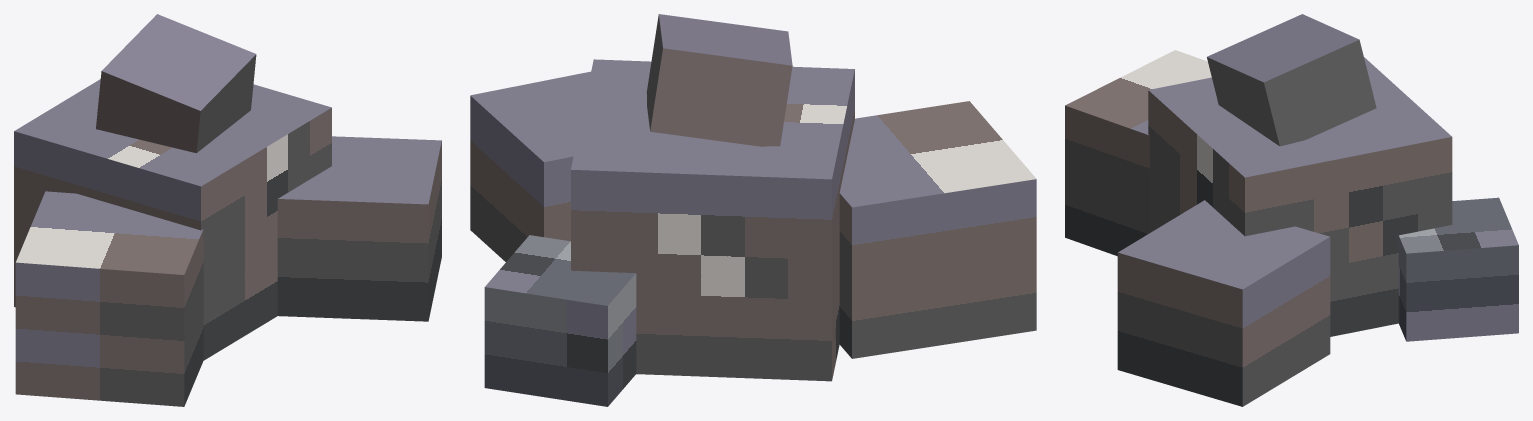
Rendered from iron_ore.glb.
3 renders of one model, left to right at view 1: azimuth 30°, elevation 25°; view 2: azimuth 150°, elevation 25°; view 3: azimuth 270°, elevation 25°, orthographic. The views are drawn at different scales.
Parts seen in each view (by area): view 1: chunk_1, chunk_3, chunk_2, chunk_top; view 2: chunk_1, chunk_3, chunk_4, chunk_2, chunk_top; view 3: chunk_1, chunk_2, chunk_3, chunk_top, chunk_4.
Boxes of the visible parts, bbox=[...] form: chunk_1: bbox=[14, 79, 331, 360]; chunk_3: bbox=[15, 191, 203, 406]; chunk_2: bbox=[277, 136, 441, 321]; chunk_top: bbox=[96, 14, 256, 153]; chunk_1: bbox=[571, 59, 854, 381]; chunk_3: bbox=[839, 101, 1036, 358]; chunk_4: bbox=[484, 235, 636, 406]; chunk_2: bbox=[470, 71, 590, 261]; chunk_top: bbox=[646, 14, 792, 146]; chunk_1: bbox=[1148, 57, 1452, 336]; chunk_2: bbox=[1117, 200, 1330, 406]; chunk_3: bbox=[1065, 50, 1211, 256]; chunk_top: bbox=[1207, 14, 1376, 146]; chunk_4: bbox=[1398, 197, 1518, 341].
Bounding box in the file's own units: 0.4361 × 0.2322 × 0.3721.
1 material, 1 textured.
